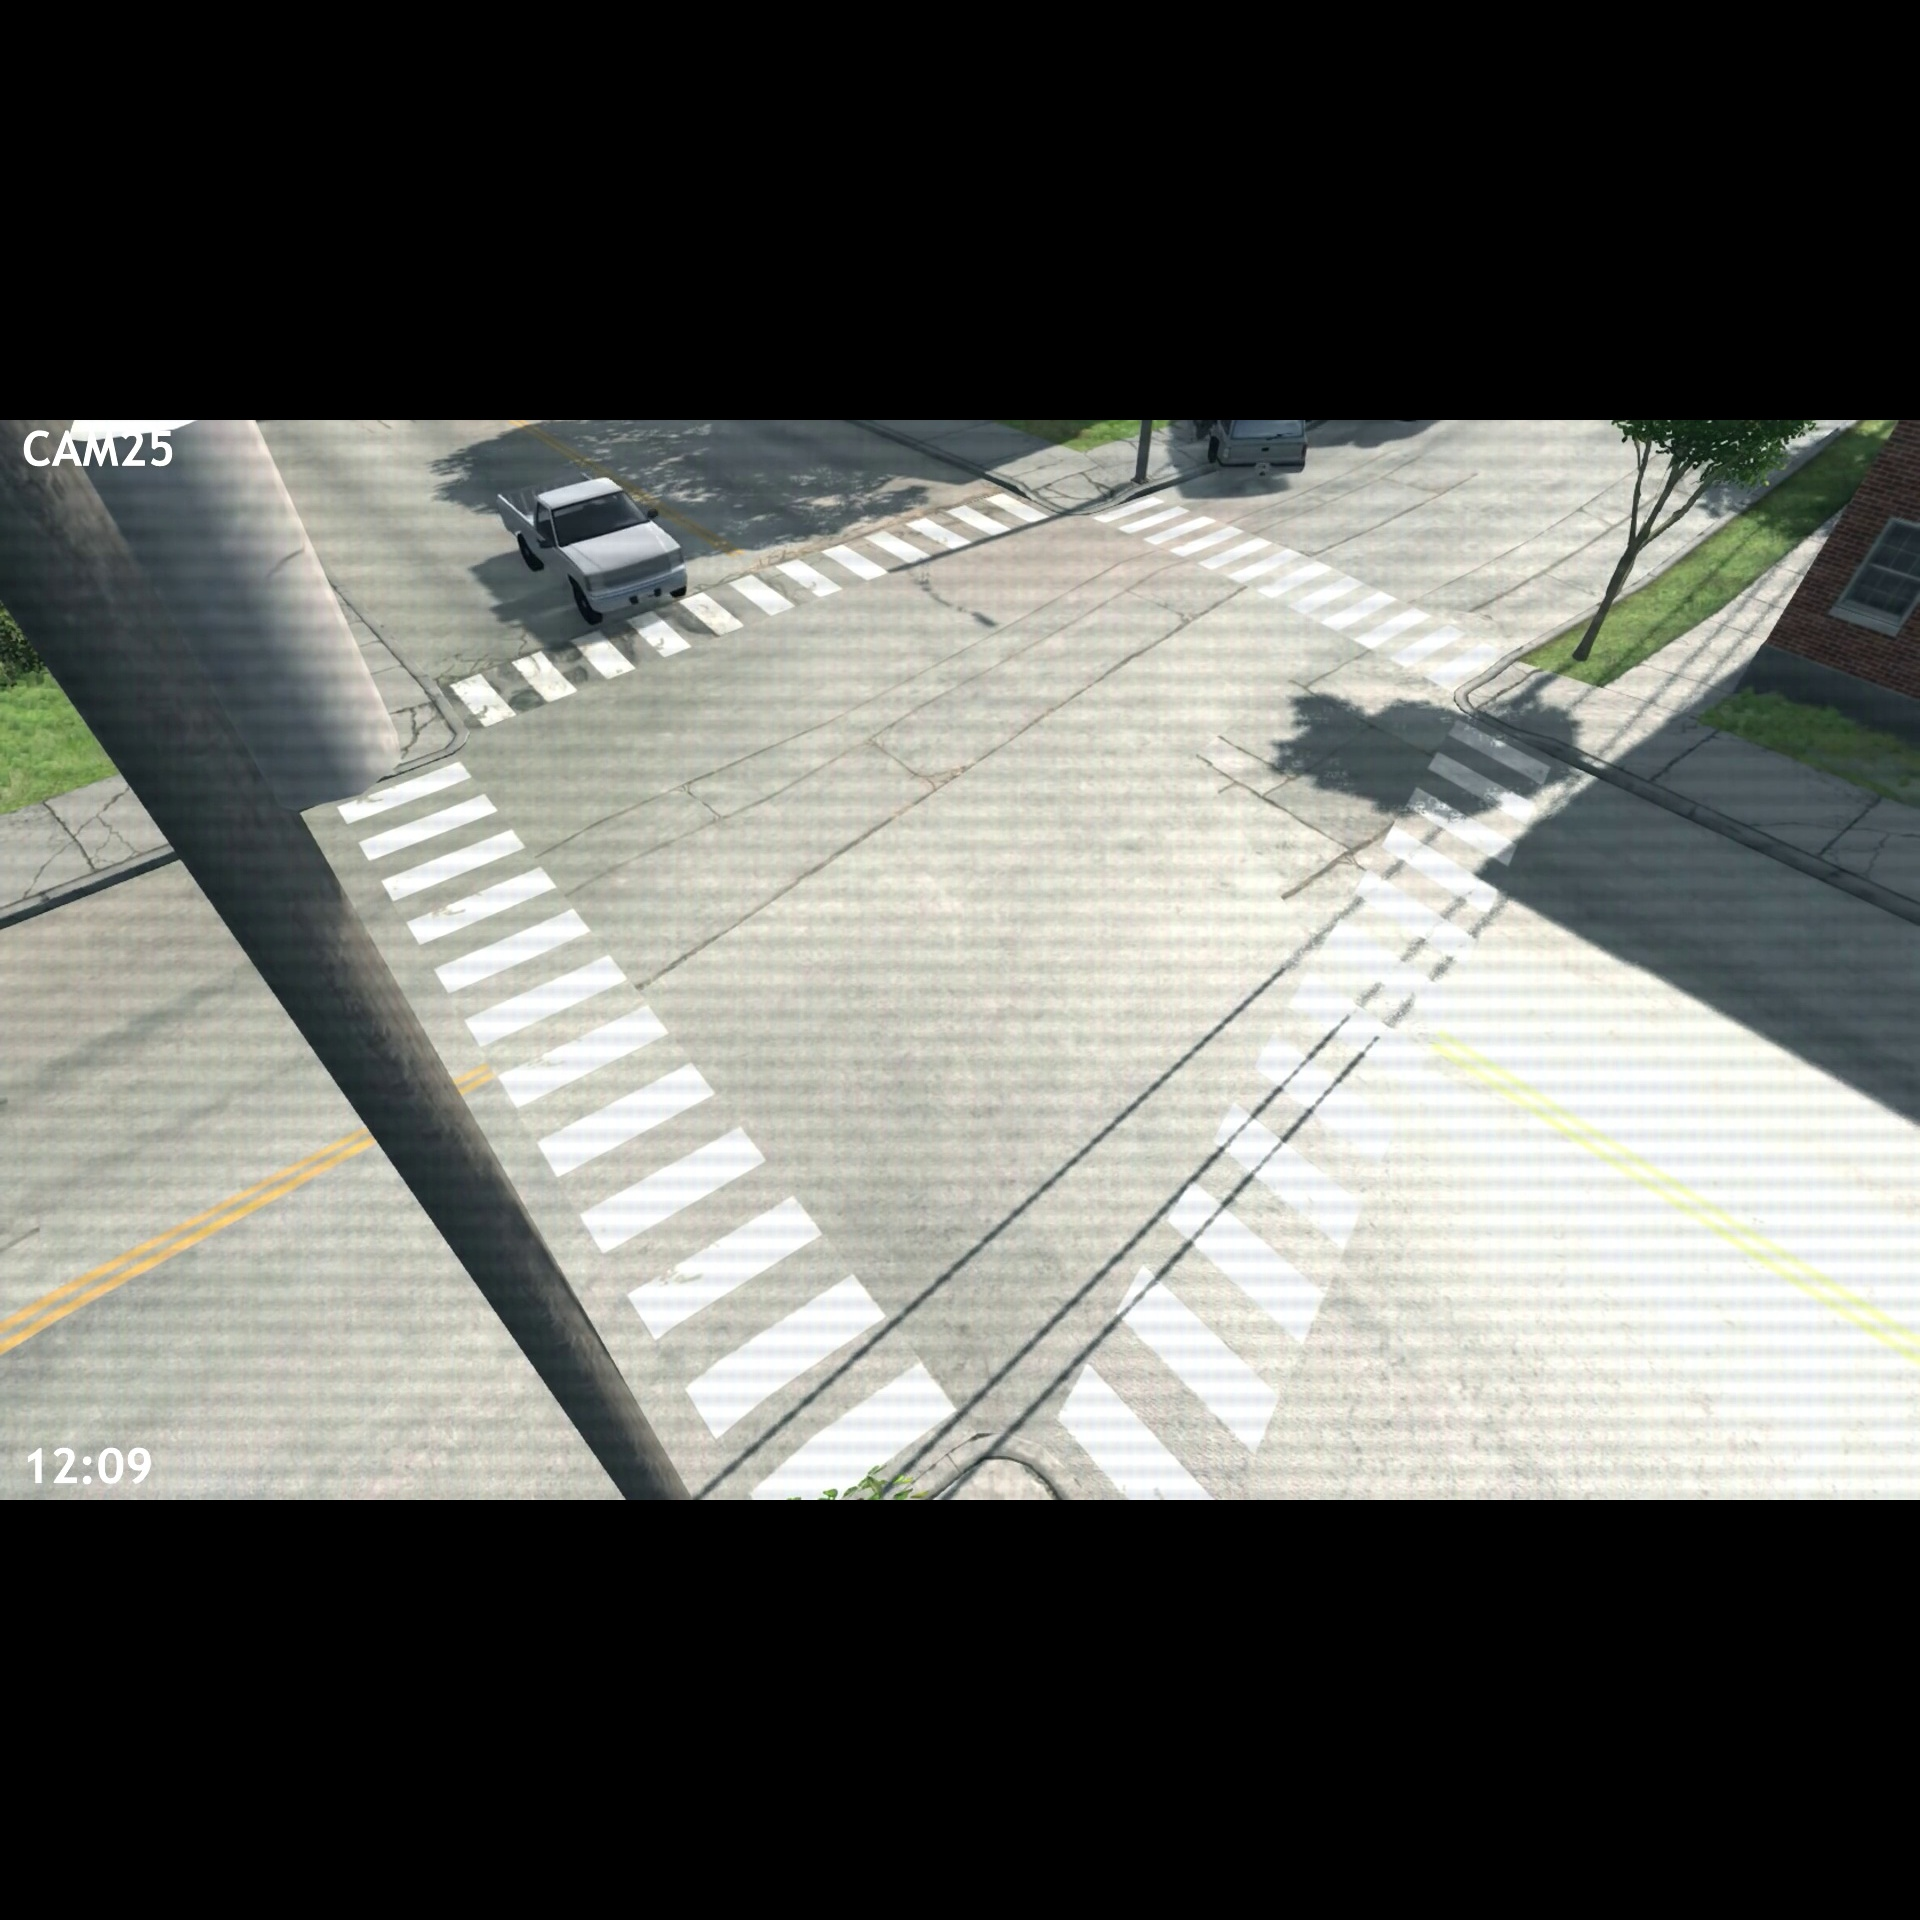vehicle: (487, 468, 693, 622)
